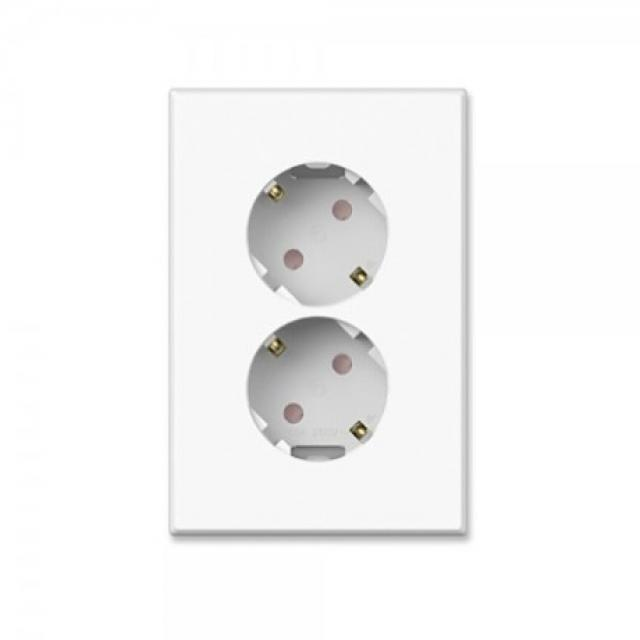typeb: (123, 46, 536, 568)
